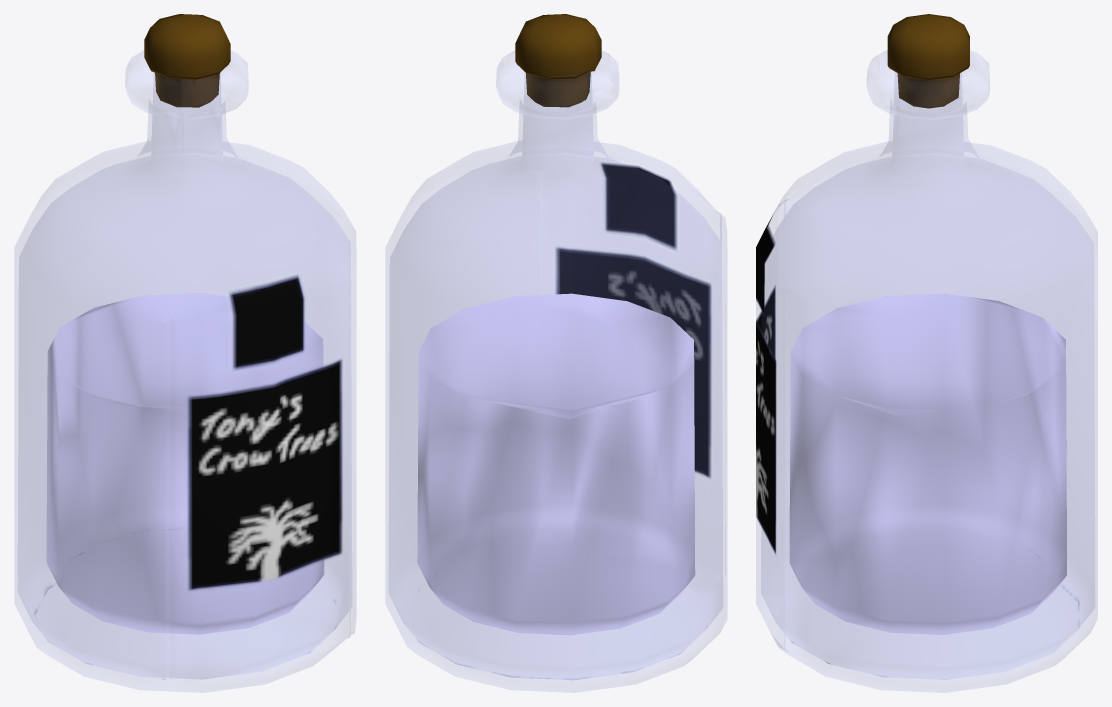
File: gin_tony_edited.gltf
3 renders of one model, left to right at view 1: azimuth 30°, elevation 25°; view 2: azimuth 150°, elevation 25°; view 3: azimuth 270°, elevation 25°, orthographic.
Visible parts, largest first — view 1: Glass_low, Liquid_low, Cork_low; view 2: Glass_low, Liquid_low, Cork_low; view 3: Glass_low, Liquid_low, Cork_low.
Boxes of the visible parts, bbox=[...] form: Glass_low: bbox=[15, 51, 355, 692]; Liquid_low: bbox=[46, 293, 324, 634]; Cork_low: bbox=[144, 14, 230, 107]; Glass_low: bbox=[386, 51, 726, 692]; Liquid_low: bbox=[417, 293, 695, 635]; Cork_low: bbox=[515, 14, 601, 107]; Glass_low: bbox=[756, 50, 1097, 692]; Liquid_low: bbox=[789, 293, 1066, 634]; Cork_low: bbox=[887, 14, 969, 108].
Size of the model in its own units: 1.02 by 2 by 1.02.
Materials: 1 (1 with a texture image).
